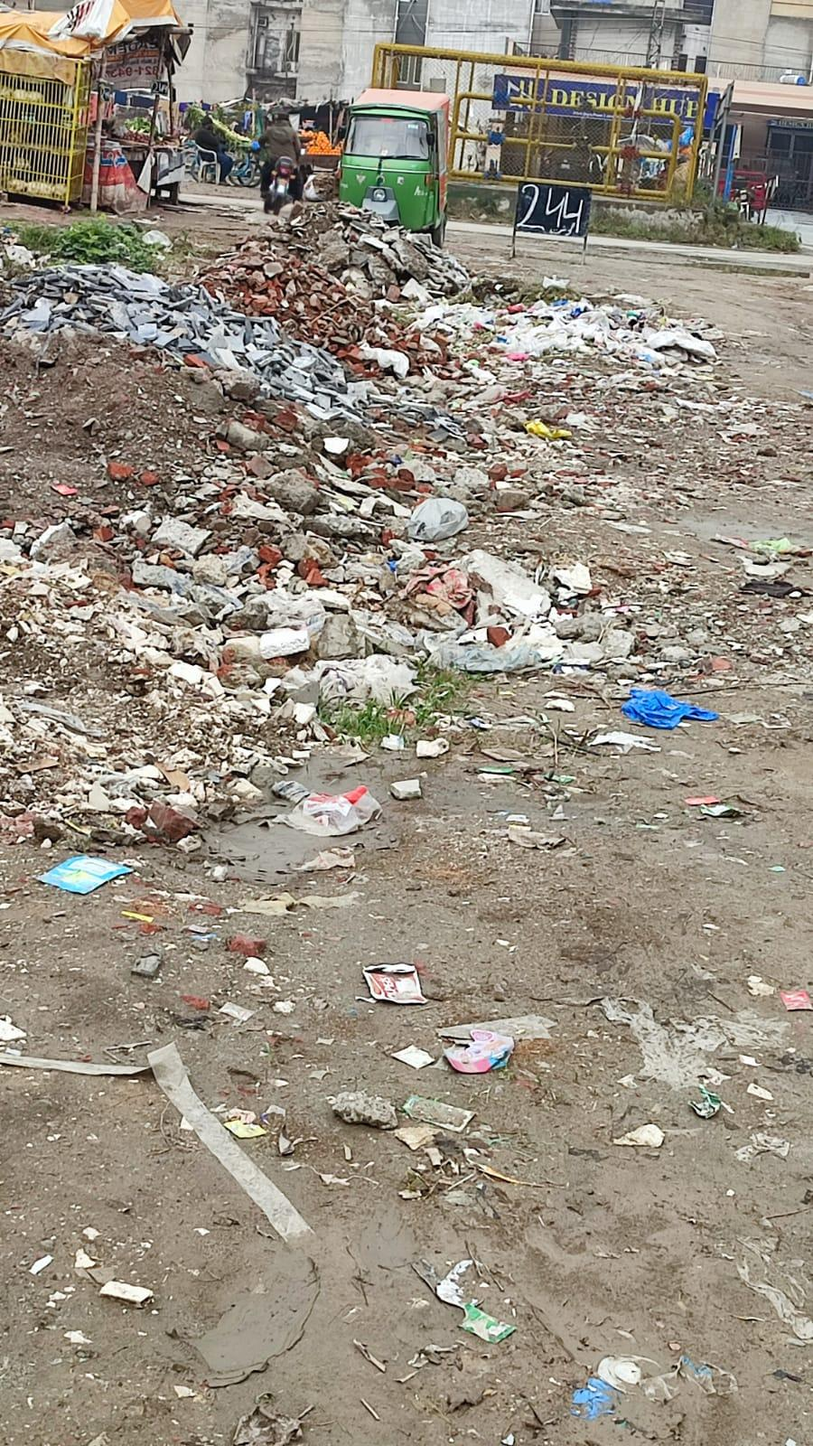garbage: (0, 246, 742, 818)
